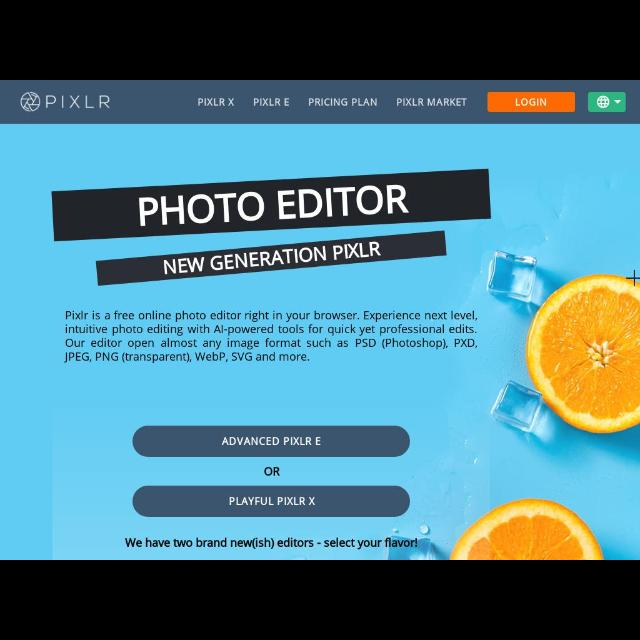backgroundimage: (1, 124, 640, 558)
icon: (596, 95, 610, 108), (613, 99, 621, 105)
image: (21, 91, 110, 112)
spinner: (589, 91, 625, 112)
text: (64, 310, 478, 364), (136, 184, 412, 226), (162, 240, 382, 276), (124, 537, 418, 549), (220, 436, 322, 446), (228, 496, 314, 506), (308, 97, 378, 107), (396, 98, 468, 106), (197, 96, 235, 108), (252, 97, 290, 107), (514, 97, 548, 107), (265, 467, 281, 478)
textbutton: (133, 425, 410, 457), (132, 486, 410, 516), (488, 92, 576, 111)
toolbar: (1, 80, 640, 124)
